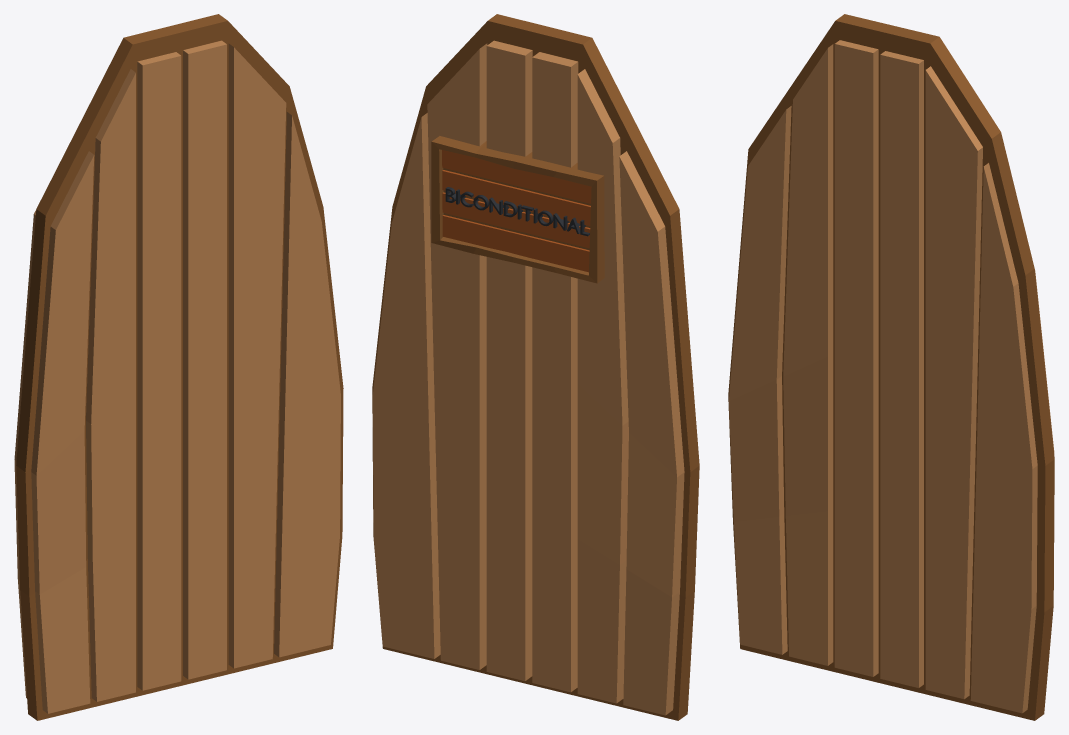
Rendered from IFANDONLYIFDOOR.fbx.
The picture shows the model from 3 angles, left to right: view 1: azimuth 30°, elevation 25°; view 2: azimuth 150°, elevation 25°; view 3: azimuth 330°, elevation 25°; orthographic projection.
Parts seen in each view (by area): view 1: Cube.199; view 2: Cube.199; view 3: Cube.199.
Part boxes in pixels (left/top/right/bottom): Cube.199: left=14, top=14, right=343, bottom=720; Cube.199: left=372, top=14, right=699, bottom=720; Cube.199: left=728, top=14, right=1054, bottom=720.
Size of the model in its own units: 318 by 625 by 51.37.
